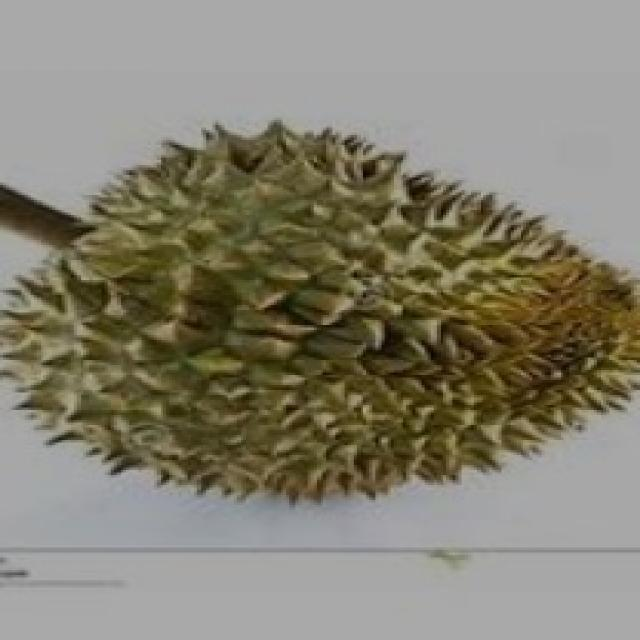fruit: (0, 152, 366, 562), (289, 135, 637, 535)
